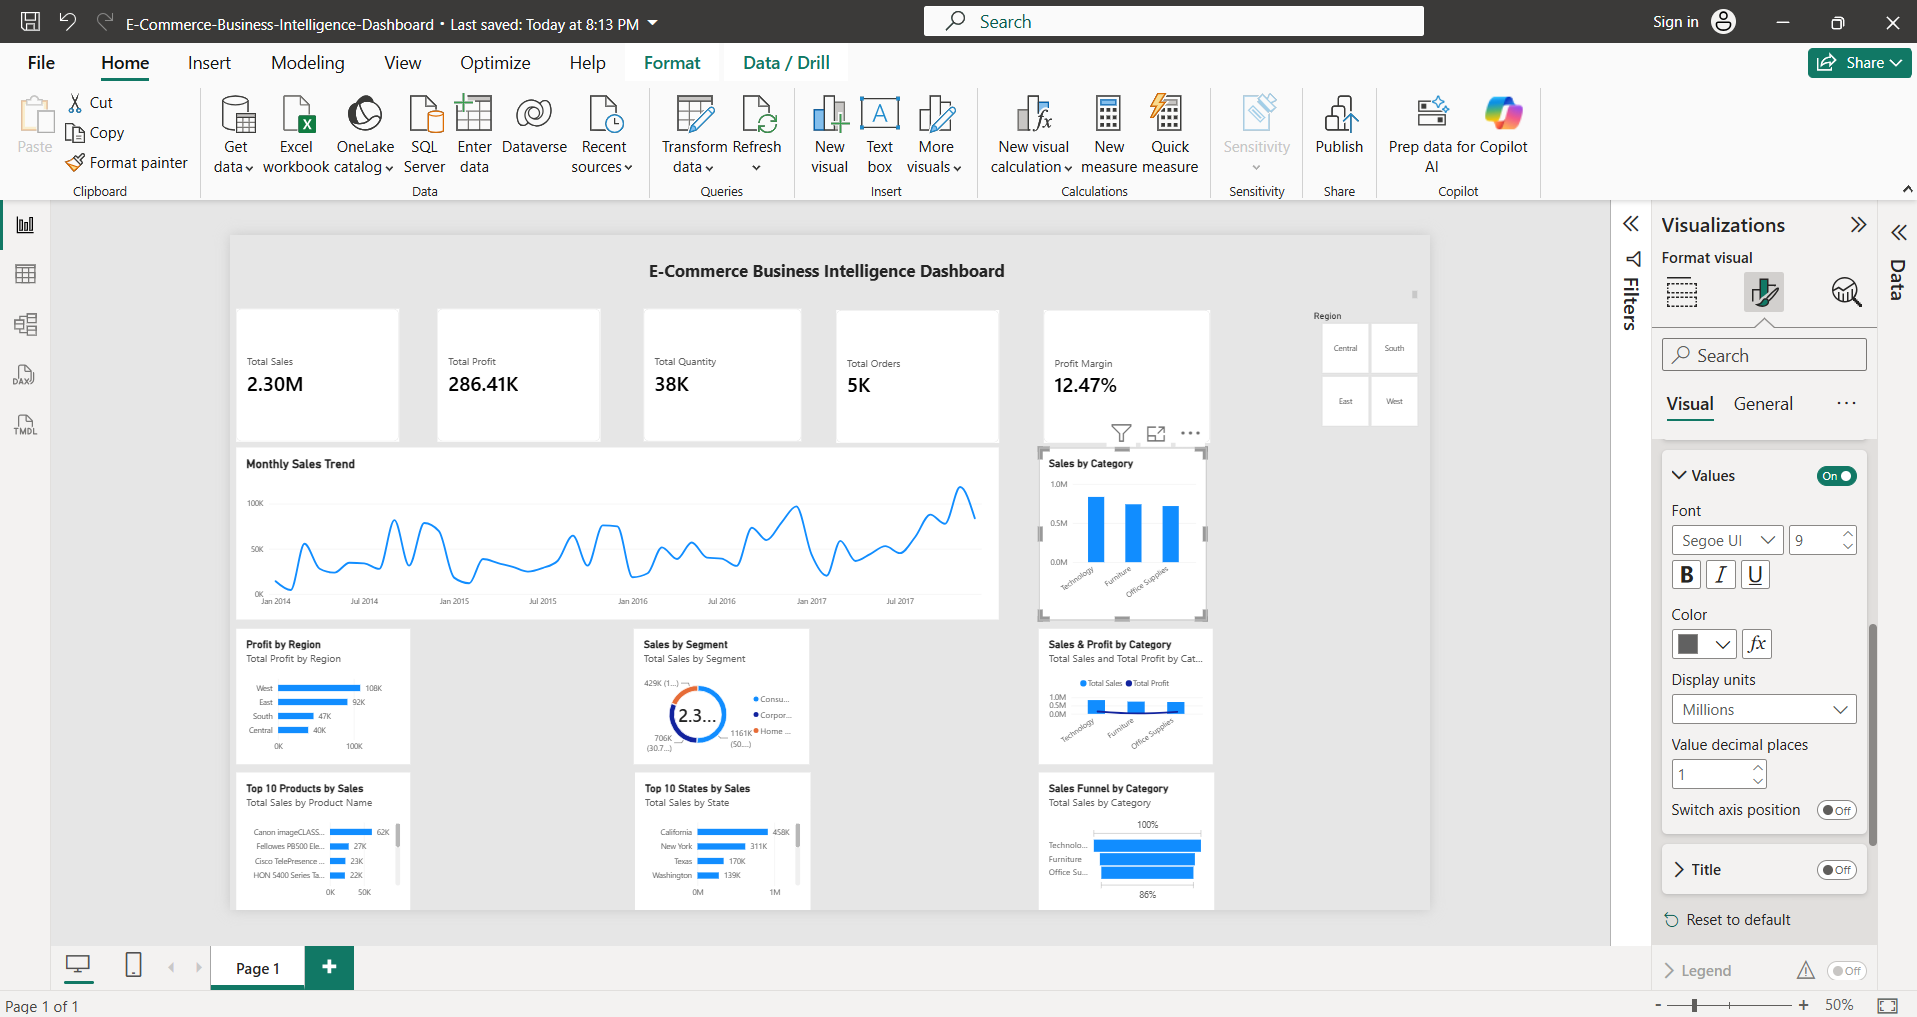

The dashboard page shown, as its layout file describes it:
{"tool":"powerbi","page":{"name":"Page 1","canvas":[1920,1080],"ordinal":0},"visuals":[{"type":"cardVisual","fields":{"Data":["Sample - Superstore.Total Sales"]},"box":[10.9,117.6,260.7,212.5],"z":0},{"type":"cardVisual","fields":{"Data":["Sample - Superstore.Total Profit"]},"box":[331.2,117.6,260.7,212.5],"z":1000},{"type":"cardVisual","fields":{"Data":["Sample - Superstore.Total Quantity"]},"box":[662.3,117.6,252,212],"z":2000},{"type":"cardVisual","fields":{"Data":["Sample - Superstore.Total Orders"]},"box":[970,119.4,260.7,212.5],"z":3000},{"type":"cardVisual","fields":{"Data":["Sample - Superstore.Profit Margin"]},"box":[1301.1,119.4,266.1,212.5],"z":4000},{"type":"lineChart","title":"Monthly Sales Trend","fields":{"Category":["Sample - Superstore.Order Date.Variation.Date Hierarchy.Year","Sample - Superstore.Order Date.Variation.Date Hierarchy.Month"],"Y":["Sample - Superstore.Total Sales"]},"box":[10.9,340.2,1219.7,275.1],"z":5000},{"type":"clusteredColumnChart","title":"Sales by Category","fields":{"Category":["Sample - Superstore.Category"],"Y":["Sample - Superstore.Total Sales"]},"box":[1293.9,340.2,267.8,275.1],"z":6000},{"type":"donutChart","title":"Sales by Segment","fields":{"Category":["Sample - Superstore.Segment"],"Y":["Sample - Superstore.Total Sales"]},"box":[646,629.8,280.5,217.2],"z":7000},{"type":"clusteredBarChart","title":"Top 10 Products by Sales","fields":{"Category":["Sample - Superstore.Product Name"],"Y":["Sample - Superstore.Total Sales"]},"box":[10.9,859.6,278.7,220.8],"z":8000},{"type":"lineClusteredColumnComboChart","title":"Sales & Profit by Category","fields":{"Category":["Sample - Superstore.Category"],"Y":["Sample - Superstore.Total Sales"],"Y2":["Sample - Superstore.Total Profit"]},"box":[1293.9,629.8,278.7,217.2],"z":9000},{"type":"clusteredBarChart","title":"Top 10 States by Sales","fields":{"Category":["Sample - Superstore.State"],"Y":["Sample - Superstore.Total Sales"]},"box":[647.9,859.6,280.5,220.8],"z":10000},{"type":"funnel","title":"Sales Funnel by Category","fields":{"Category":["Sample - Superstore.Category"],"Y":["Sample - Superstore.Total Sales"]},"box":[1293.9,859.6,280.5,220.8],"z":11000},{"type":"slicer","fields":{"Values":["Sample - Superstore.Region"]},"box":[1726.4,119.4,194,188],"z":12000},{"type":"clusteredBarChart","title":"Profit by Region","fields":{"Category":["Sample - Superstore.Region"],"Y":["Sample - Superstore.Total Profit"]},"box":[10.9,629.8,278.7,217.2],"z":13000},{"type":"textbox","title":"E-Commerce Business Intelligence Dashboard","box":[10.9,38,1889.3,63.3],"z":14000},{"type":"textbox","box":[290,834,498,246],"z":16000},{"type":"textbox","box":[1044.2,492.2,242.5,246.1],"z":17000}]}

Visuals, with their boxes on the page's 1920x1080 design canvas (x1, y1, x2, y2). These are canvas units, not pixel positions in the 1917x1017 screenshot, which may show the page scaled, cropped or inside an application window:
cardVisual - Sample - Superstore.Total Sales: <bbox>11, 118, 272, 330</bbox>
cardVisual - Sample - Superstore.Total Profit: <bbox>331, 118, 592, 330</bbox>
cardVisual - Sample - Superstore.Total Quantity: <bbox>662, 118, 914, 330</bbox>
cardVisual - Sample - Superstore.Total Orders: <bbox>970, 119, 1231, 332</bbox>
cardVisual - Sample - Superstore.Profit Margin: <bbox>1301, 119, 1567, 332</bbox>
"Monthly Sales Trend" lineChart: <bbox>11, 340, 1231, 615</bbox>
"Sales by Category" clusteredColumnChart: <bbox>1294, 340, 1562, 615</bbox>
"Sales by Segment" donutChart: <bbox>646, 630, 926, 847</bbox>
"Top 10 Products by Sales" clusteredBarChart: <bbox>11, 860, 290, 1080</bbox>
"Sales & Profit by Category" lineClusteredColumnComboChart: <bbox>1294, 630, 1573, 847</bbox>
"Top 10 States by Sales" clusteredBarChart: <bbox>648, 860, 928, 1080</bbox>
"Sales Funnel by Category" funnel: <bbox>1294, 860, 1574, 1080</bbox>
slicer - Sample - Superstore.Region: <bbox>1726, 119, 1920, 307</bbox>
"Profit by Region" clusteredBarChart: <bbox>11, 630, 290, 847</bbox>
"E-Commerce Business Intelligence Dashboard" textbox: <bbox>11, 38, 1900, 101</bbox>
textbox: <bbox>290, 834, 788, 1080</bbox>
textbox: <bbox>1044, 492, 1287, 738</bbox>
